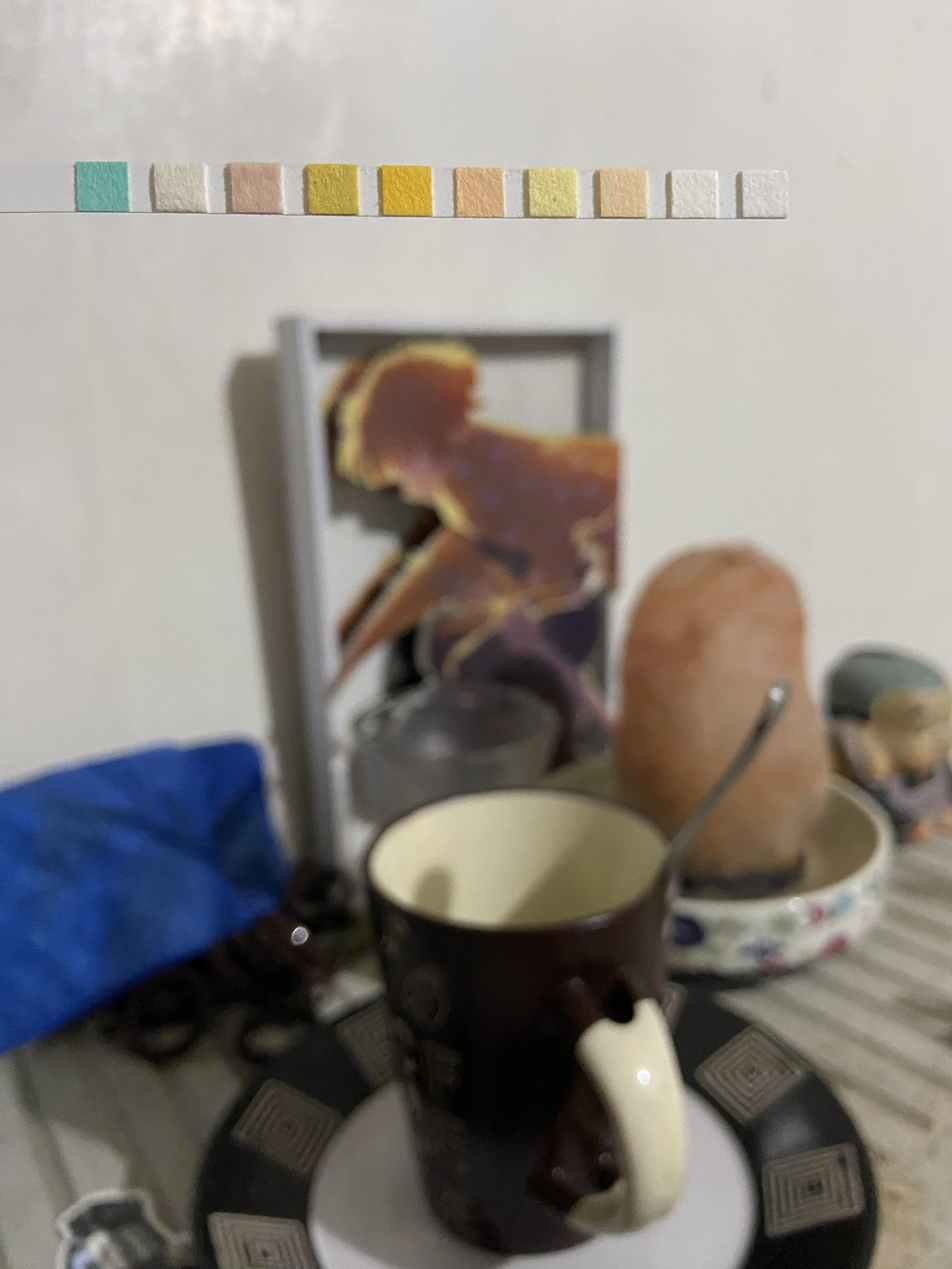Bilirubin: (153, 163, 205, 210)
Blood: (383, 165, 432, 216)
Glucose: (76, 163, 129, 212)
Ketone: (230, 162, 281, 212)
Leukocytes: (743, 171, 788, 217)
Nitrite: (670, 171, 717, 218)
Protein: (529, 166, 578, 216)
SpGravity: (308, 163, 359, 215)
Urobilinogen: (599, 168, 648, 218)
pH: (456, 168, 503, 218)
strip: (0, 164, 791, 217)
